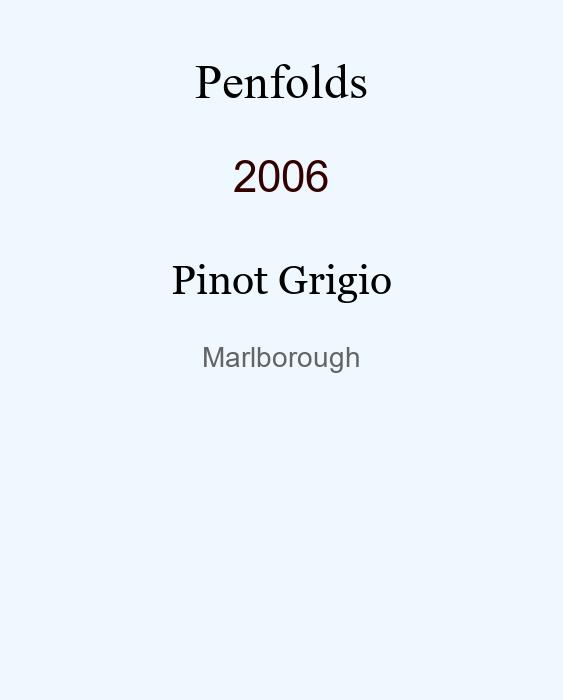brand: (195, 54, 368, 88)
region: (202, 341, 361, 367)
variety: (171, 256, 392, 295)
vintage: (233, 152, 329, 184)
